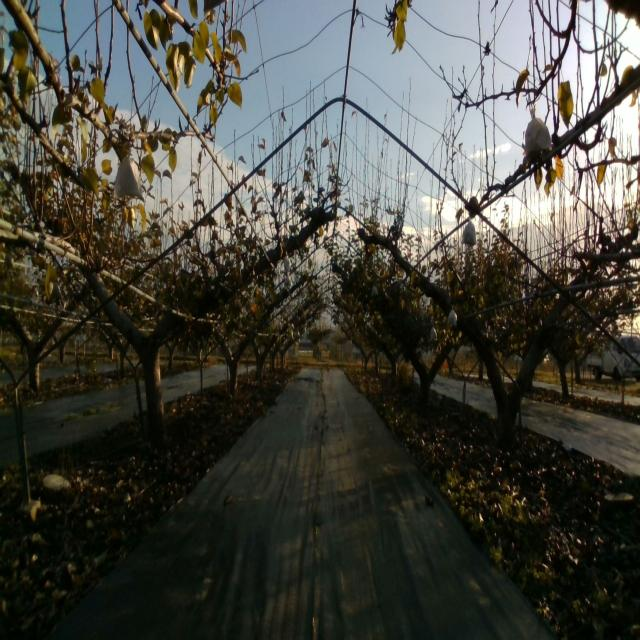pearbags: (112, 156, 145, 202), (524, 106, 552, 152), (460, 220, 477, 246), (446, 305, 458, 328)
